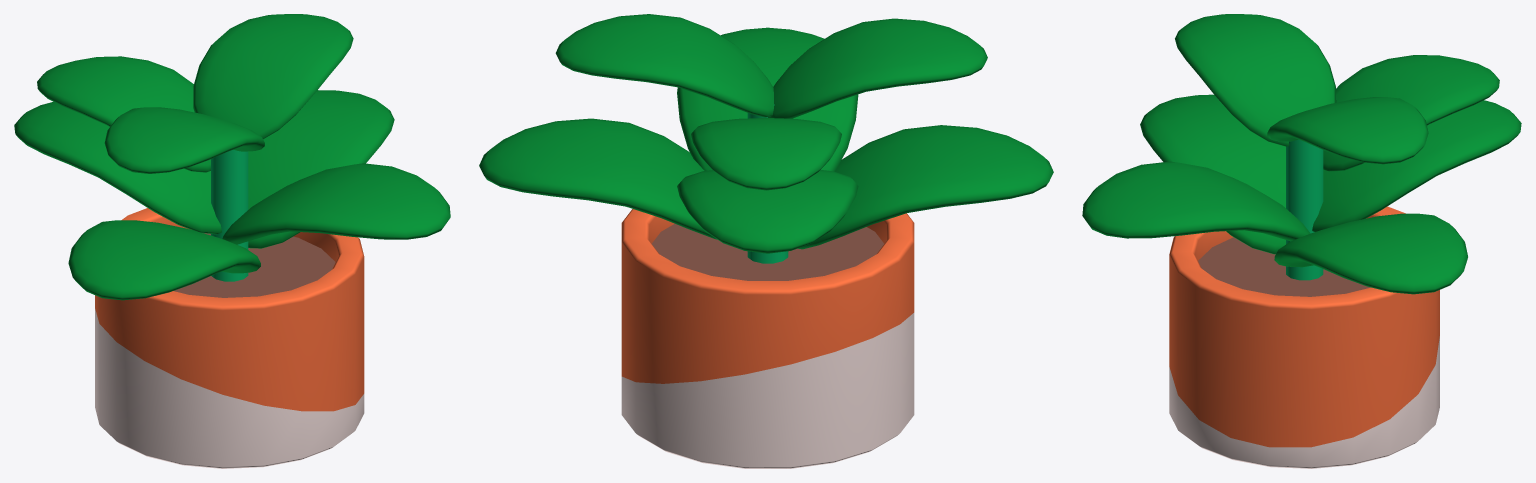
Rendered from City_17_Plant_3.glb.
3 renders of one model, left to right at view 1: azimuth 30°, elevation 25°; view 2: azimuth 150°, elevation 25°; view 3: azimuth 270°, elevation 25°, orthographic. The views are drawn at different scales.
Parts seen in each view (by area): view 1: City_17_Plant_3; view 2: City_17_Plant_3; view 3: City_17_Plant_3.
Part boxes in pixels (box(x1,y1,x2,y2)): City_17_Plant_3: box(14, 14, 450, 468); City_17_Plant_3: box(479, 14, 1053, 468); City_17_Plant_3: box(1082, 14, 1521, 468).
Size of the model in its own units: 1.52 by 1.22 by 1.42.
Materials: 1 (1 with a texture image).
